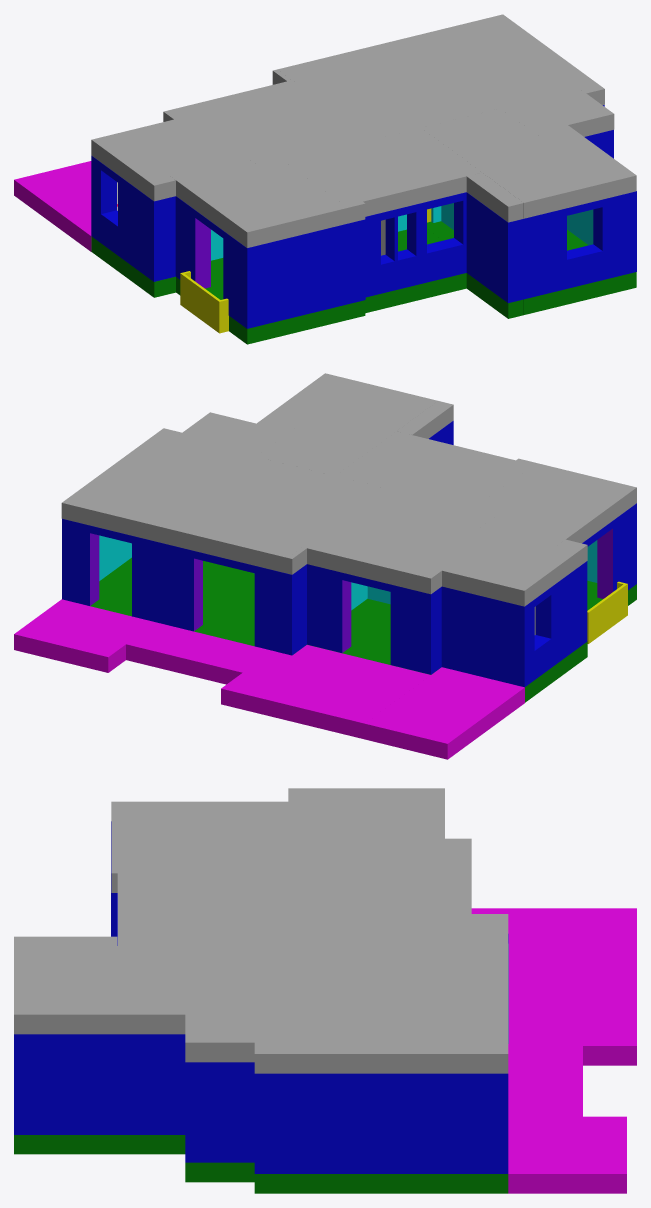
The model's file is Blueprint_v01.fbx.
The picture shows the model from 3 angles, top to bottom: view 1: azimuth 30°, elevation 25°; view 2: azimuth 150°, elevation 25°; view 3: azimuth 270°, elevation 25°; orthographic projection. The views are drawn at different scales.
Visible parts, largest first — view 1: Kitchen_Living, Bedroom02 (×2), Bedroom04 (×2), Wall9, Bedroom05 (×2), Wall33, Bedroom01, Bath01 (×2), Wall10, Wall2, Wall1, Bath02 (×2) (+9 smaller); view 2: Terrace, Kitchen_Living (×2), Bedroom01 (×2), Wall8, Bedroom02 (×2), Bath01 (×2), Bedroom04, Wall6, Wall2, Wall12, Bedroom05, Bath02 (+8 smaller); view 3: Kitchen_Living (×2), Terrace, Wall4, Bedroom04 (×2), Wall13, Bedroom02, Bedroom01, Bedroom05, Bath01, Entrance (×2), Wall32, Bath02 (+6 smaller).
Boxes of the visible parts, x1,y1,x2,y2 form: Kitchen_Living: (278, 14, 598, 139); Bedroom02 (×2): (145, 155, 347, 344); Bedroom04 (×2): (462, 122, 636, 318); Wall9: (508, 191, 636, 302); Bedroom05 (×2): (337, 123, 481, 304); Wall33: (246, 219, 365, 324); Bedroom01: (179, 69, 356, 154); Bath01 (×2): (91, 108, 243, 290); Wall10: (365, 192, 466, 297); Wall2: (91, 155, 169, 281); Wall1: (175, 196, 262, 328); Bath02 (×2): (284, 148, 398, 319); Terrace: (14, 599, 524, 759); Kitchen_Living (×2): (61, 432, 382, 646); Bedroom01 (×2): (287, 500, 479, 670); Wall8: (62, 518, 275, 651); Bedroom02 (×2): (473, 463, 636, 663); Bath01 (×2): (415, 527, 578, 702); Bedroom04: (253, 373, 453, 445); Wall6: (307, 564, 441, 674); Wall2: (509, 561, 587, 687); Wall12: (441, 586, 515, 684); Bedroom05: (317, 431, 480, 496); Bath02: (420, 452, 535, 509); Kitchen_Living (×2): (270, 917, 508, 1193); Terrace: (471, 908, 636, 1193); Wall4: (254, 1073, 508, 1173); Bedroom04 (×2): (14, 936, 194, 1154); Wall13: (14, 1034, 185, 1134); Bedroom02: (111, 788, 310, 862); Bedroom01: (310, 848, 508, 916); Bedroom05: (117, 895, 269, 956); Bath01: (310, 788, 471, 847); Entrance (×2): (185, 994, 269, 1193); Wall32: (185, 1062, 254, 1162); Bath02: (111, 862, 269, 894).
Bounding box in the file's own units: 1448 × 355 × 1434.
